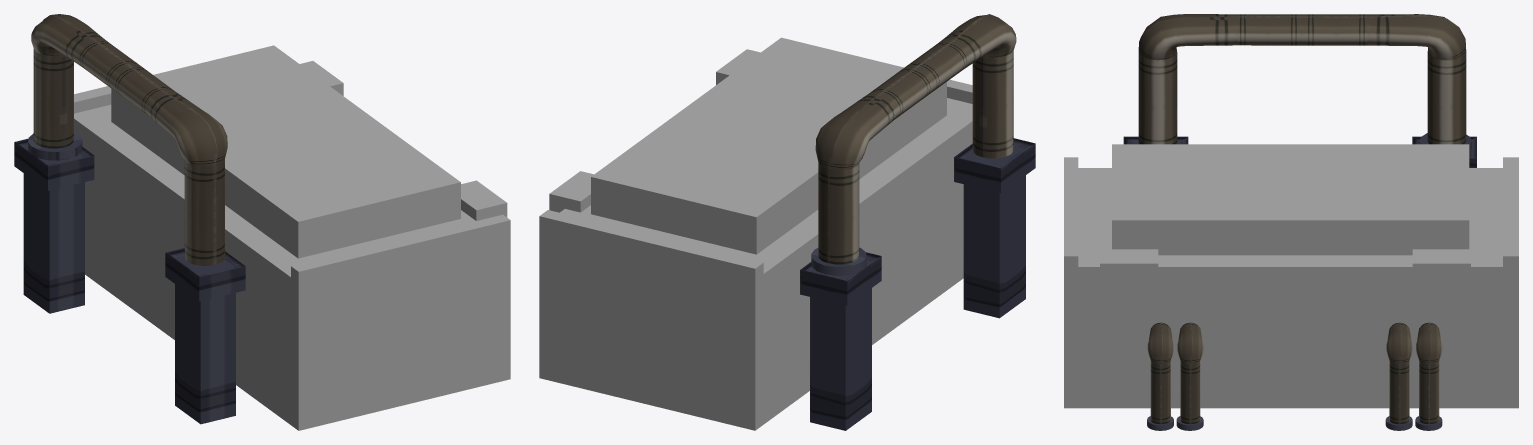
File: Generador2.fbx
3 renders of one model, left to right at view 1: azimuth 30°, elevation 25°; view 2: azimuth 150°, elevation 25°; view 3: azimuth 270°, elevation 25°, orthographic. The views are drawn at different scales.
Visible parts, largest first — view 1: Generador2; view 2: Generador2; view 3: Generador2.
Boxes of the visible parts, bbox=[...] form: Generador2: bbox=[14, 14, 510, 430]; Generador2: bbox=[539, 14, 1035, 430]; Generador2: bbox=[1064, 14, 1518, 430].
Bounding box in the file's own units: 7009 × 6030 × 9008.
Materials: 2 (1 with a texture image).
